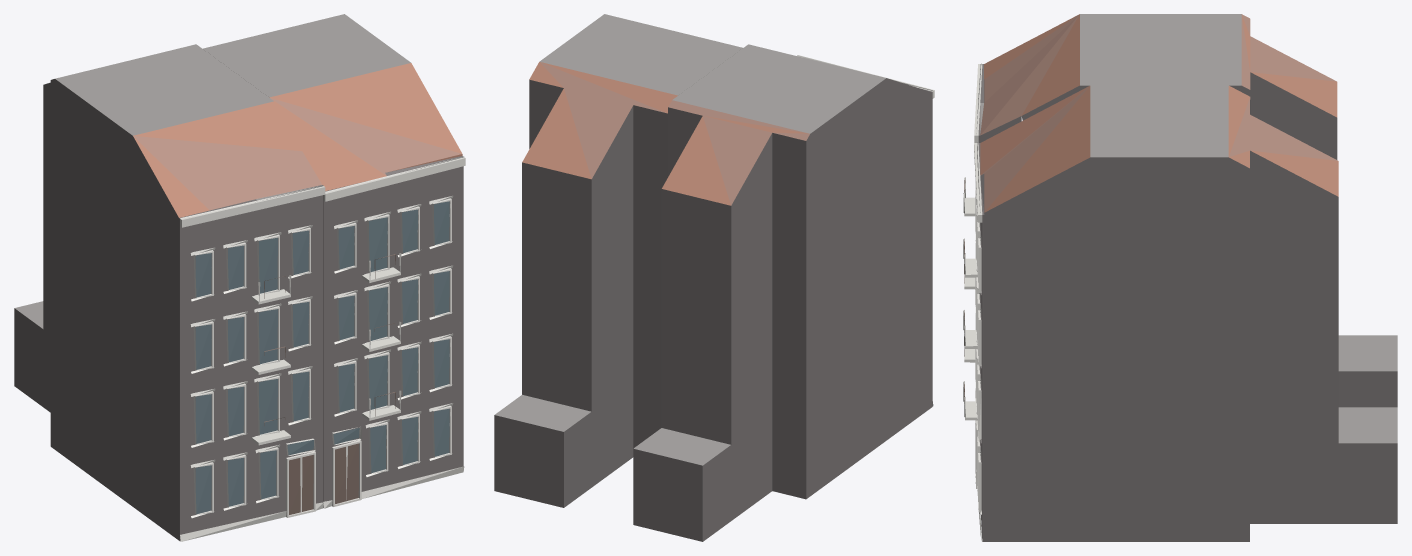
Rendered from chunk-face-pretorius-71-95-r1.lod2.glb.
3 renders of one model, left to right at view 1: azimuth 30°, elevation 25°; view 2: azimuth 150°, elevation 25°; view 3: azimuth 270°, elevation 25°, orthographic. The views are drawn at different scales.
Visible parts, largest first — view 1: lod2; view 2: lod2; view 3: lod2.
Boxes of the visible parts, x1,y1,x2,y2 form: lod2: (14,14,465,541); lod2: (494,14,934,541); lod2: (963,14,1397,541).
Size of the model in its own units: 13.59 by 16.99 by 17.38.
